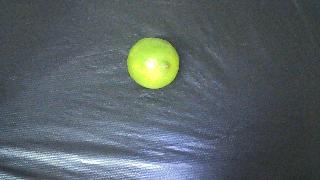LOCAL: (127, 38, 179, 89)
